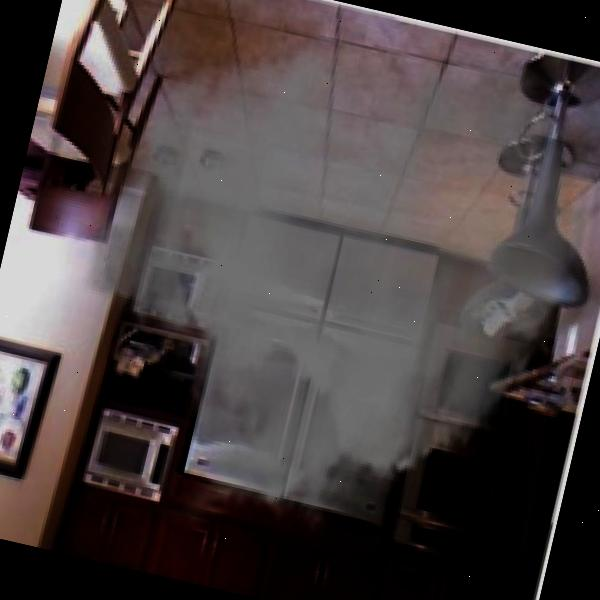smoke: (27, 0, 600, 600)
